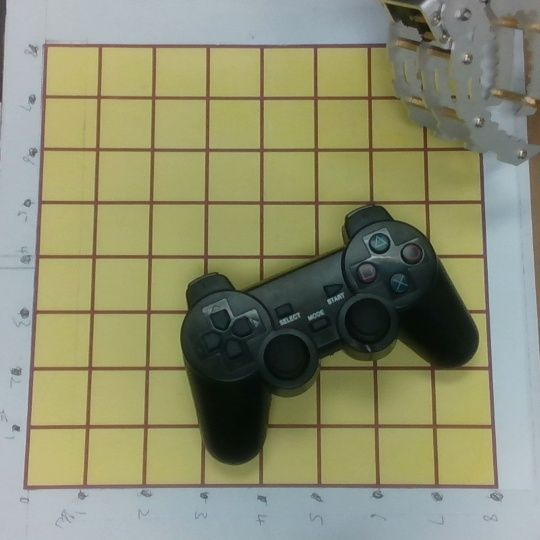remote: (182, 203, 481, 467)
